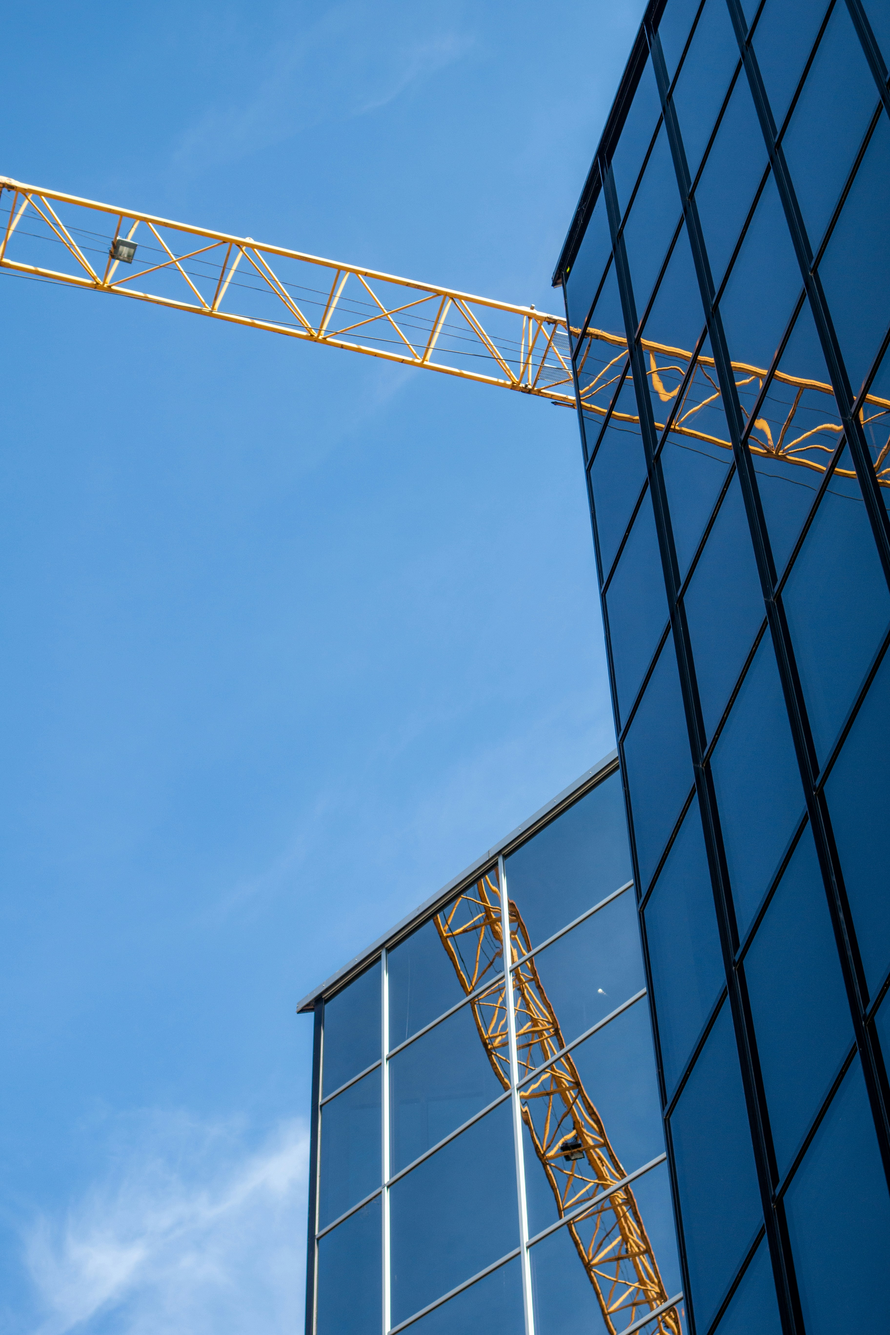glass_panel: (743, 829, 852, 1176), (523, 1001, 664, 1235), (670, 1001, 762, 1335), (782, 487, 890, 765), (783, 1057, 890, 1335), (710, 630, 804, 937), (391, 1102, 518, 1325), (529, 1164, 682, 1335), (783, 0, 876, 255), (645, 798, 724, 1094), (389, 977, 509, 1171), (513, 891, 643, 1070), (749, 307, 842, 546), (825, 657, 890, 992), (505, 775, 630, 945), (684, 474, 764, 738), (389, 869, 503, 1050), (719, 174, 802, 420), (819, 112, 890, 392), (624, 633, 693, 892), (695, 72, 767, 289), (660, 365, 731, 583), (606, 492, 667, 722), (673, 0, 738, 181), (590, 369, 646, 575), (642, 225, 700, 421), (623, 124, 680, 323), (575, 262, 629, 453), (318, 1069, 381, 1226), (752, 0, 828, 128), (400, 1259, 523, 1335), (316, 1198, 382, 1335), (322, 958, 381, 1096), (612, 55, 661, 215), (713, 1240, 782, 1335), (566, 193, 611, 327), (658, 0, 700, 84), (618, 392, 637, 421), (597, 988, 608, 996)
